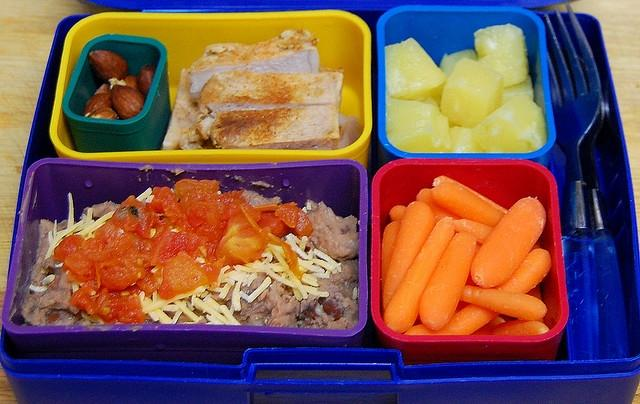almond: (88, 50, 128, 83), (111, 85, 145, 119), (84, 93, 114, 117), (138, 64, 157, 100), (86, 107, 120, 120), (124, 76, 140, 92), (94, 84, 110, 96)
carrot: (404, 248, 552, 335), (384, 216, 455, 334), (471, 196, 546, 288), (419, 232, 478, 332), (384, 200, 436, 310), (431, 180, 506, 227), (460, 285, 548, 321), (433, 176, 508, 214), (416, 188, 463, 224), (382, 219, 402, 303), (454, 218, 496, 244), (491, 319, 550, 335), (389, 205, 406, 222)
pineapple: (469, 89, 546, 152), (384, 37, 448, 108), (441, 58, 504, 128), (386, 96, 456, 154), (474, 24, 528, 87), (450, 126, 486, 153), (503, 75, 534, 105)
tomato: (70, 280, 144, 324), (81, 217, 142, 261), (158, 250, 209, 300), (151, 223, 209, 266), (159, 187, 198, 236), (220, 229, 270, 266), (99, 254, 146, 290), (275, 203, 313, 238), (186, 201, 218, 238), (62, 248, 96, 282), (174, 179, 220, 201), (257, 210, 290, 239), (53, 234, 85, 262), (135, 210, 161, 239), (124, 210, 138, 231), (218, 202, 224, 214)
